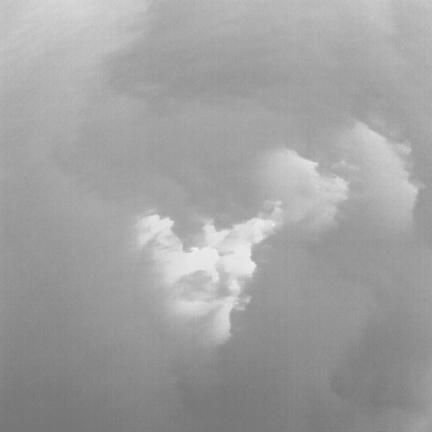flukeprints: (165, 248, 219, 283), (218, 237, 255, 278), (138, 214, 173, 245)
